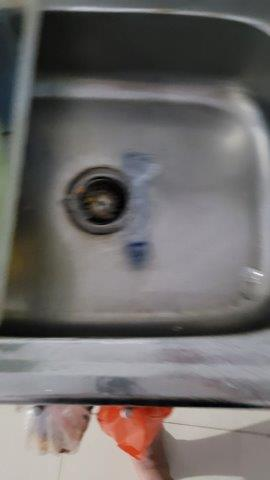botolplastik: (121, 151, 159, 273)
